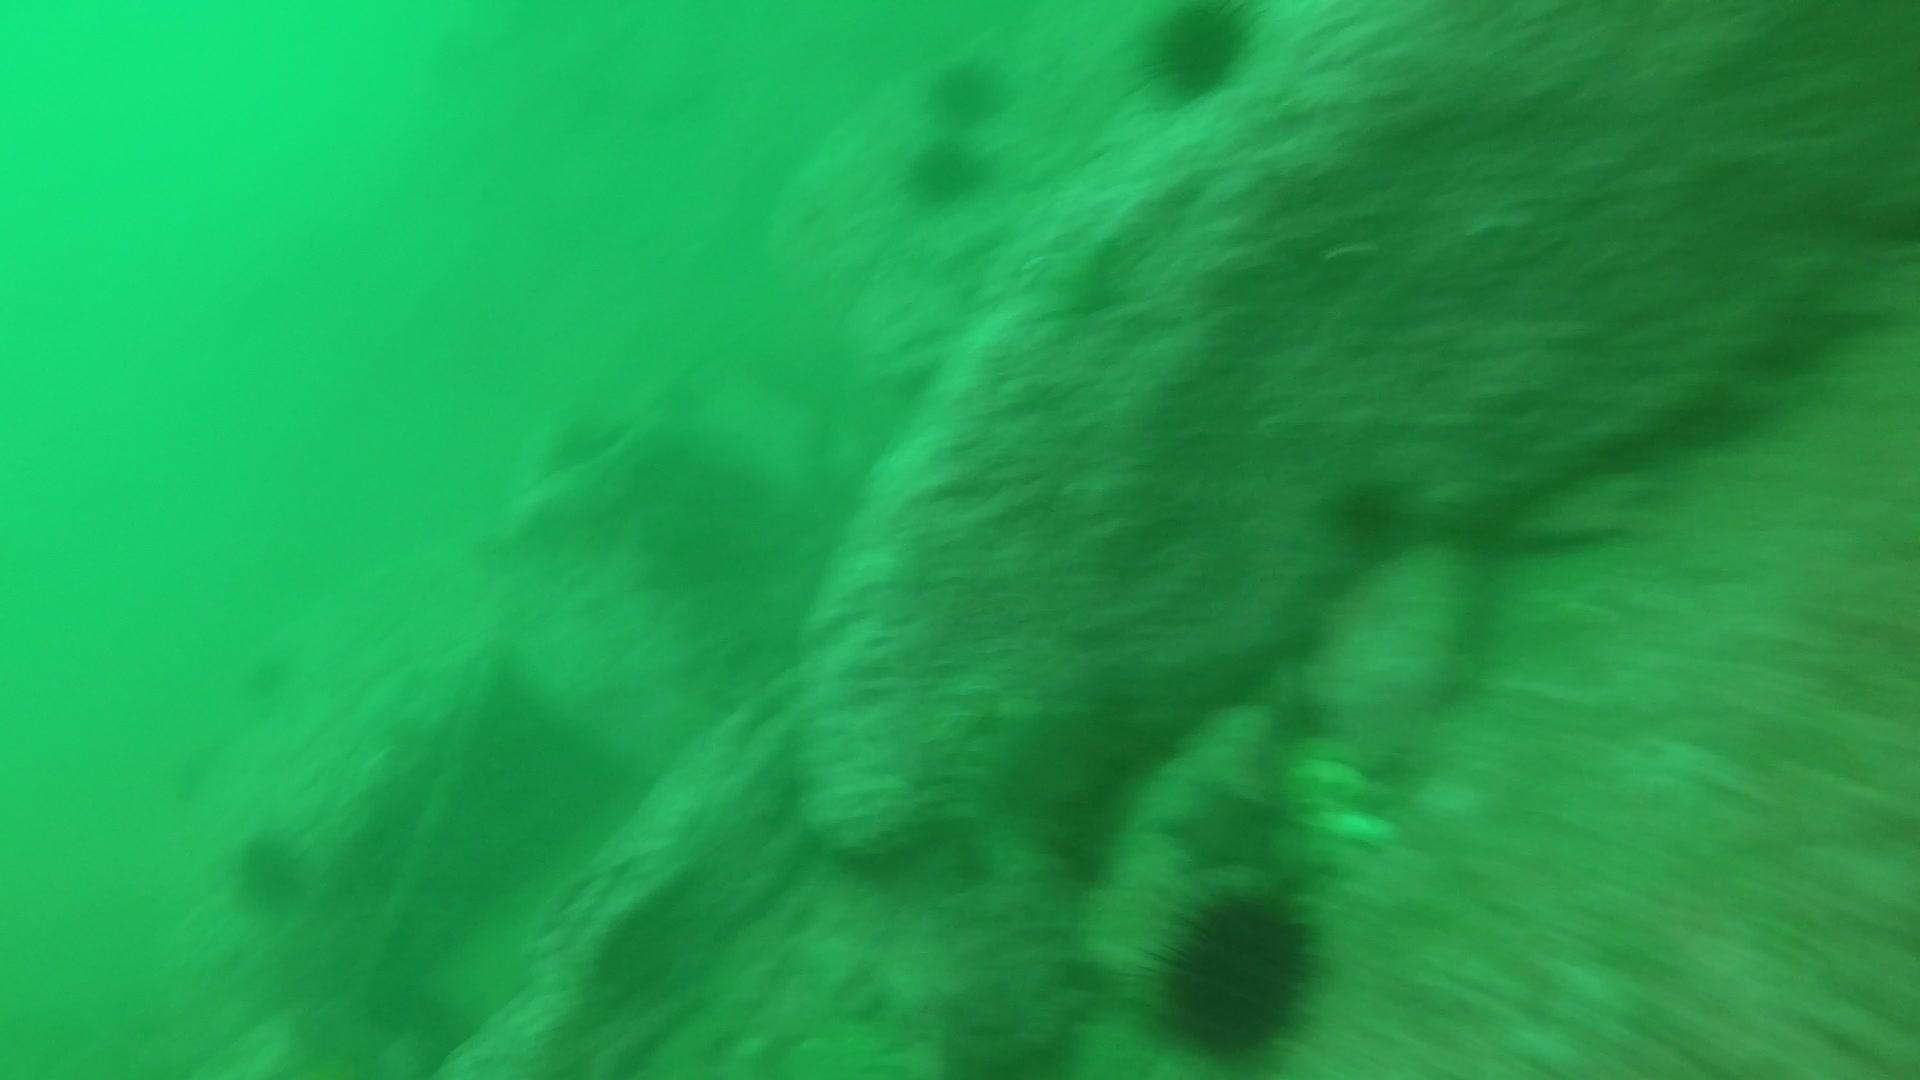echinus: (1142, 877, 1328, 1064), (1134, 1, 1262, 105), (1320, 467, 1418, 559), (225, 822, 313, 913), (920, 49, 1013, 129), (899, 132, 992, 208)
